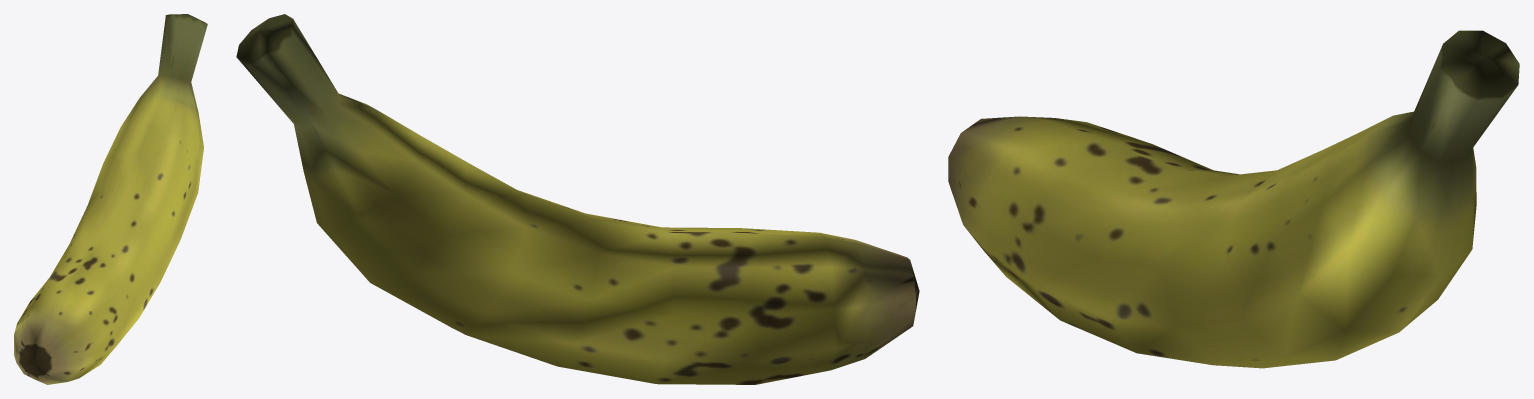
Rendered from banana.fbx.
3 renders of one model, left to right at view 1: azimuth 30°, elevation 25°; view 2: azimuth 150°, elevation 25°; view 3: azimuth 270°, elevation 25°, orthographic. The views are drawn at different scales.
Visible parts, largest first — view 1: FACESET_Banana; view 2: FACESET_Banana; view 3: FACESET_Banana.
Part boxes in pixels (left/top/right/bottom): FACESET_Banana: left=14, top=14, right=207, bottom=384; FACESET_Banana: left=236, top=14, right=919, bottom=384; FACESET_Banana: left=948, top=30, right=1519, bottom=368.
Size of the model in its own units: 6.87 by 5.21 by 5.6.
